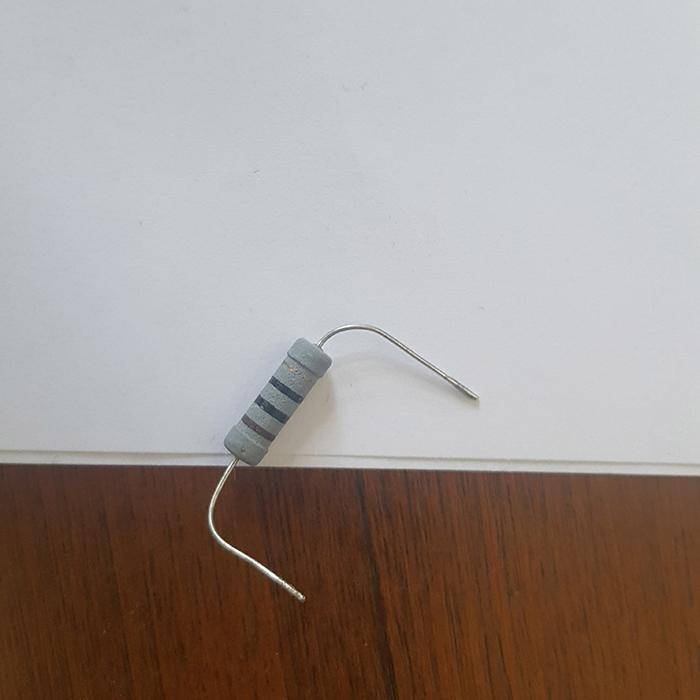resistor: (223, 337, 333, 466)
